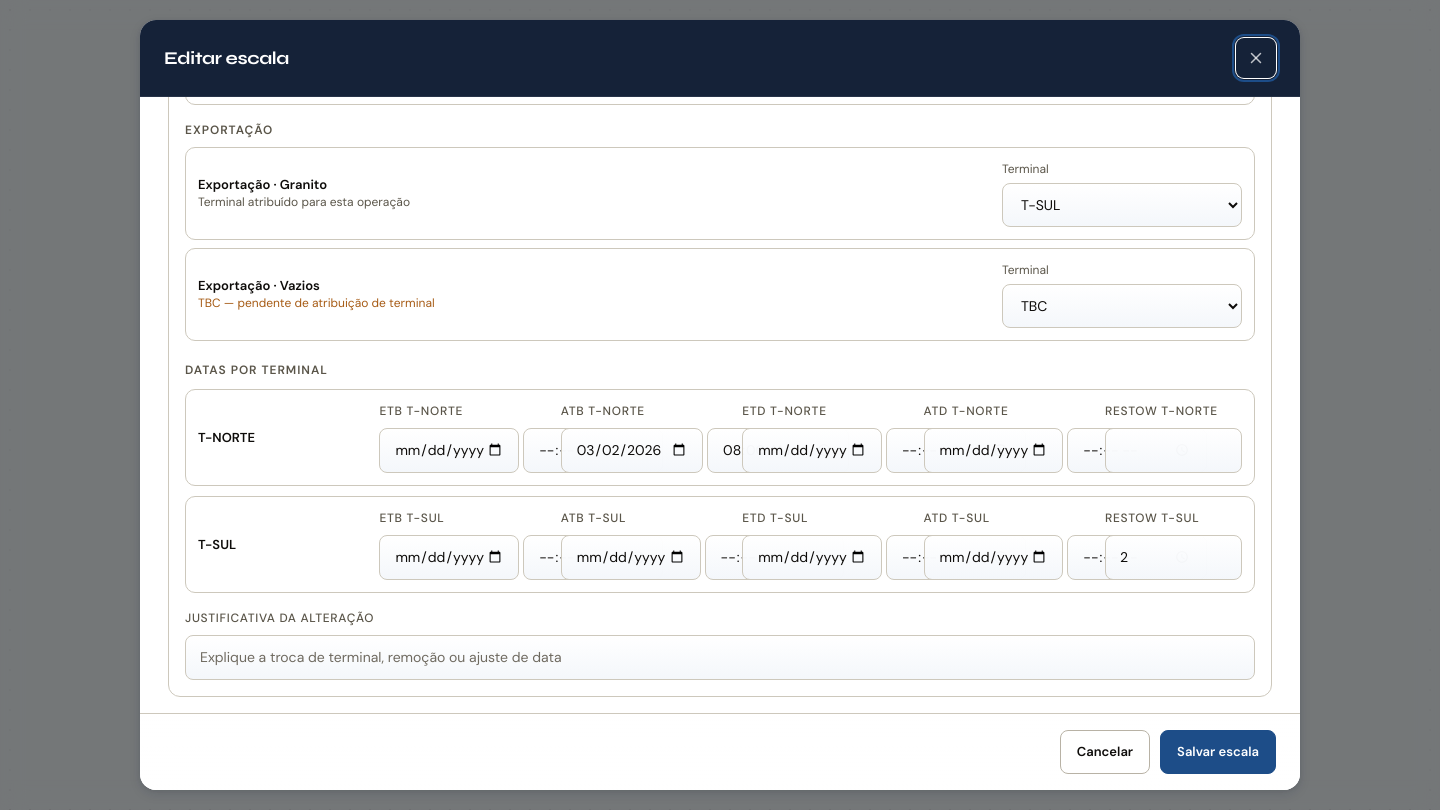
EscalaModal › rejeita ATD sem ATB com mensagem de preenchimento
(page scrolled)
In the date field labelled "ATD T-SUL": (993, 557) [924,535,1063,580], type "2026-03-03"
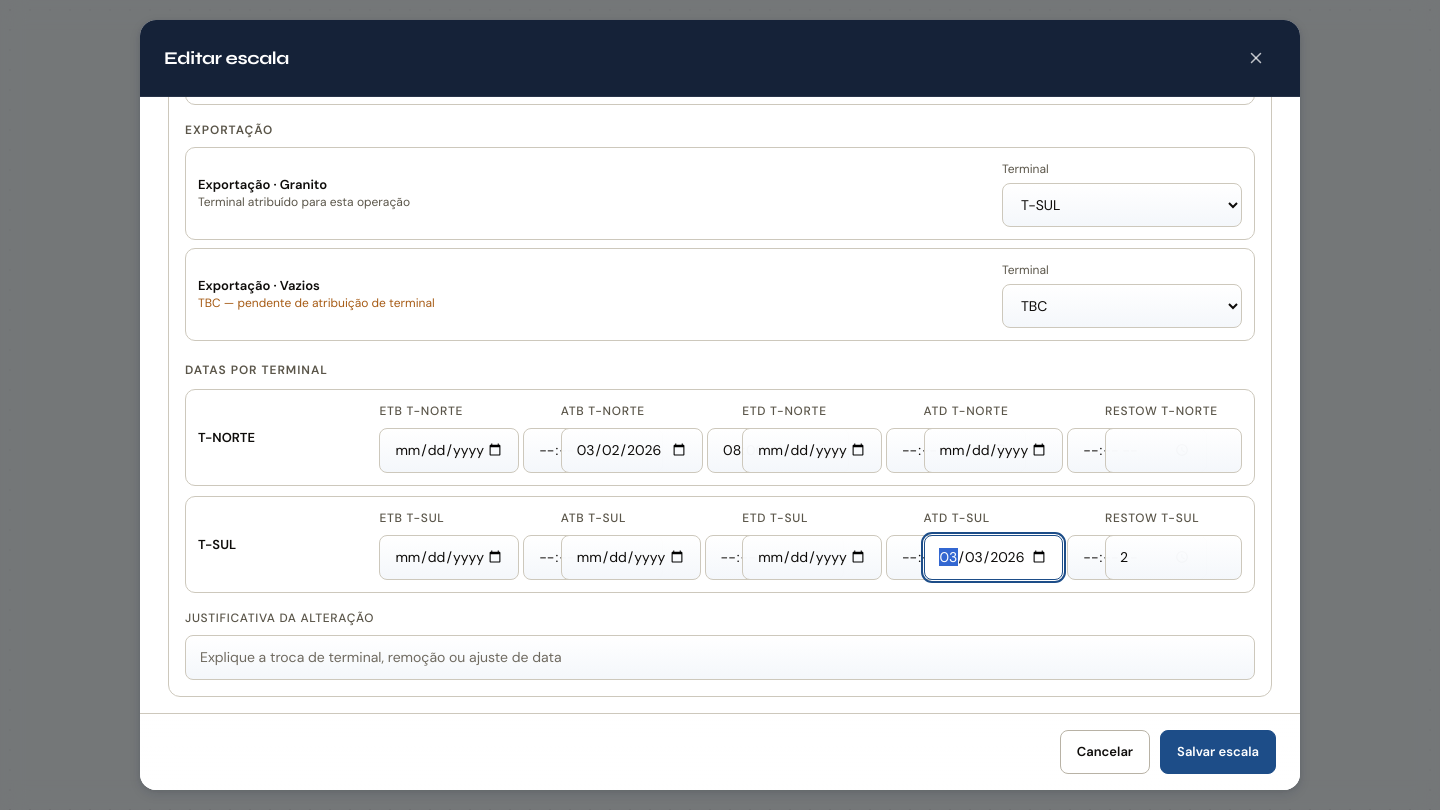
Click the button "Salvar escala": (1218, 752) [1160,730,1276,774]
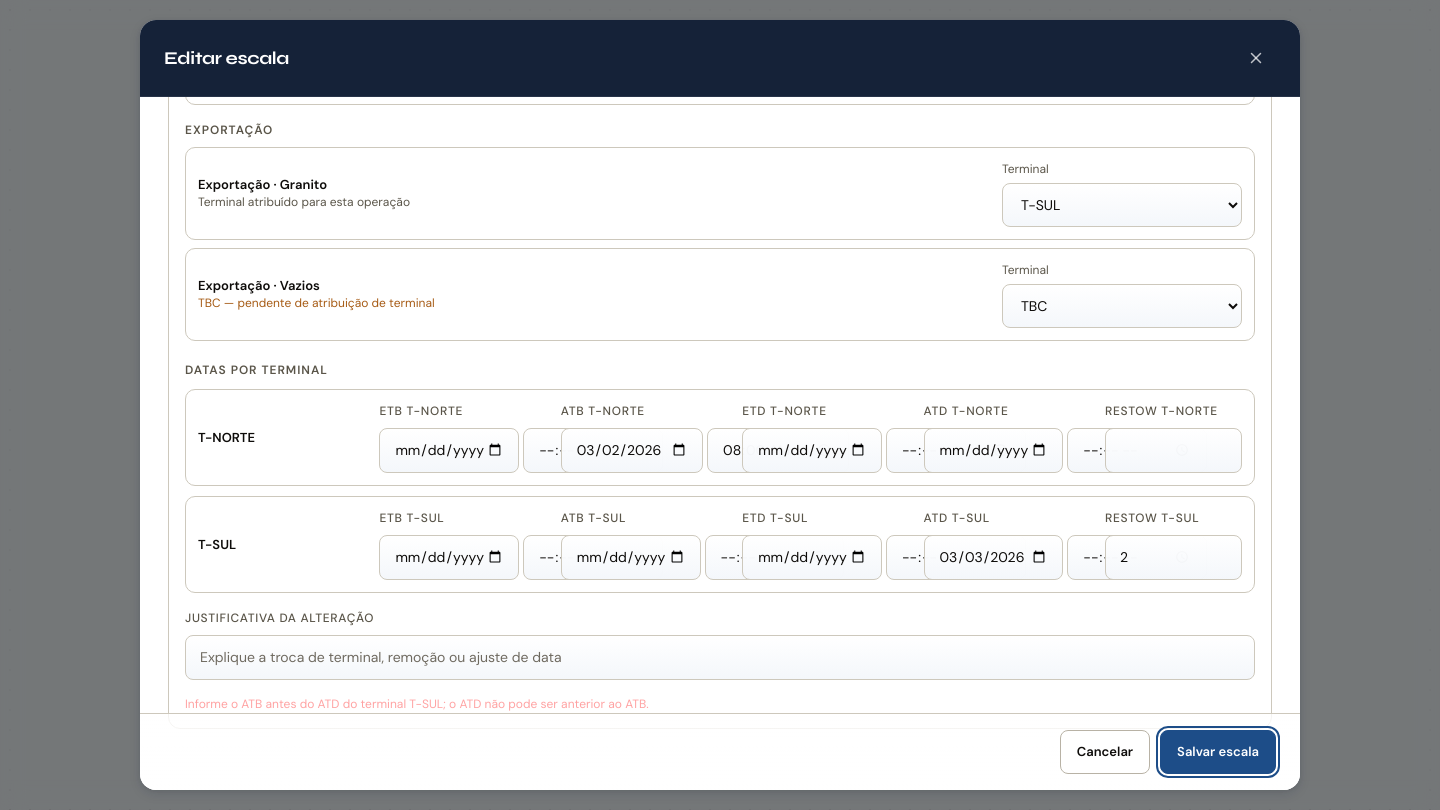
Now the message shows "Informe o ATB", box [185,696,649,712]
